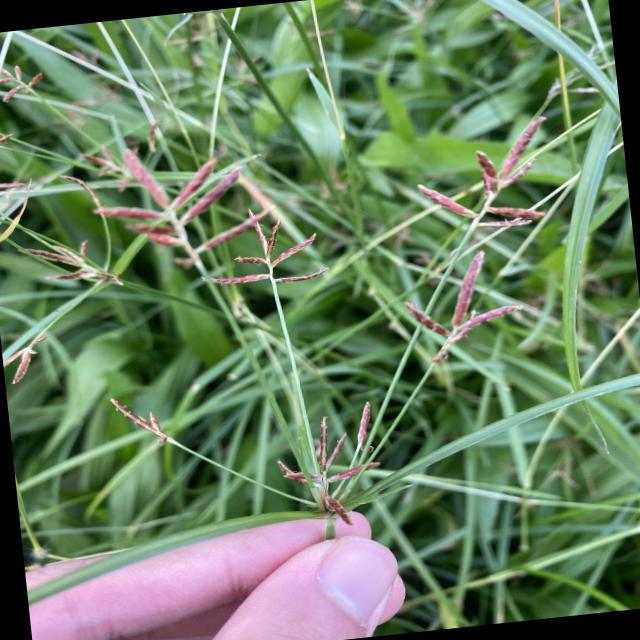cyperus: (94, 358, 407, 560), (384, 109, 590, 398), (0, 47, 145, 391), (64, 96, 264, 283), (255, 394, 428, 542), (195, 199, 337, 322)
